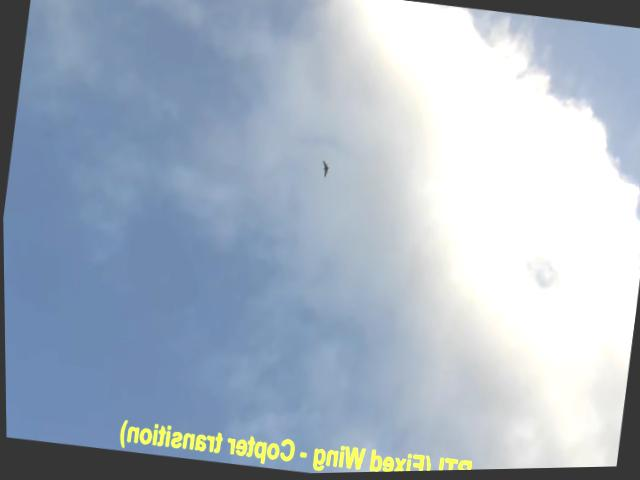plane: (319, 163, 329, 179)
